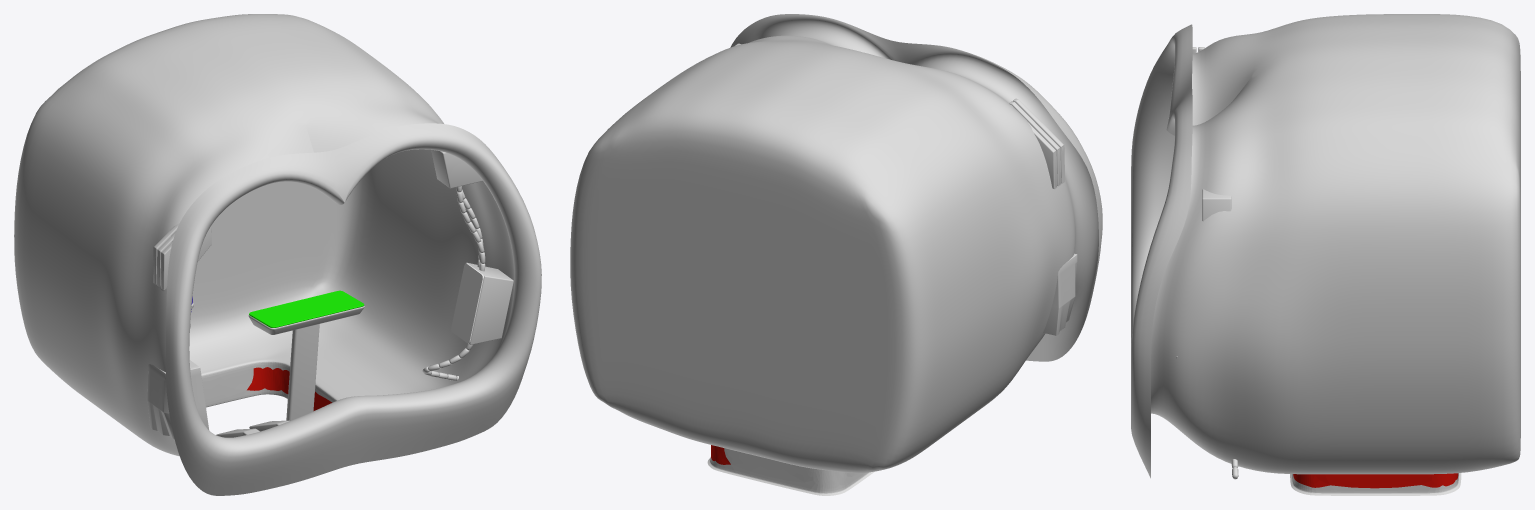
The model's file is Ship.fbx.
The picture shows the model from 3 angles, left to right: view 1: azimuth 30°, elevation 25°; view 2: azimuth 150°, elevation 25°; view 3: azimuth 270°, elevation 25°; orthographic projection. The views are drawn at different scales.
Visible parts, largest first — view 1: ShipInterior, Console, LeftBox, RightBox, SideConsole, LeftUpperBox, RightBaffle1; view 2: ShipInterior, RightBox, RightBaffle3; view 3: ShipInterior, LeftUpperBox.
Boxes of the visible parts, box(x1,y1,x2,y2) form: ShipInterior: box(14, 14, 541, 495); Console: box(248, 290, 364, 420); LeftBox: box(466, 262, 513, 344); RightBox: box(147, 360, 208, 439); SideConsole: box(451, 263, 483, 343); LeftUpperBox: box(431, 150, 482, 188); RightBaffle1: box(160, 225, 211, 290); ShipInterior: box(570, 14, 1102, 495); RightBox: box(1043, 253, 1077, 335); RightBaffle3: box(1010, 105, 1057, 189); ShipInterior: box(1131, 14, 1520, 495); LeftUpperBox: box(1202, 189, 1231, 221).
Bounding box in the file's own units: 280 × 273 × 235.
